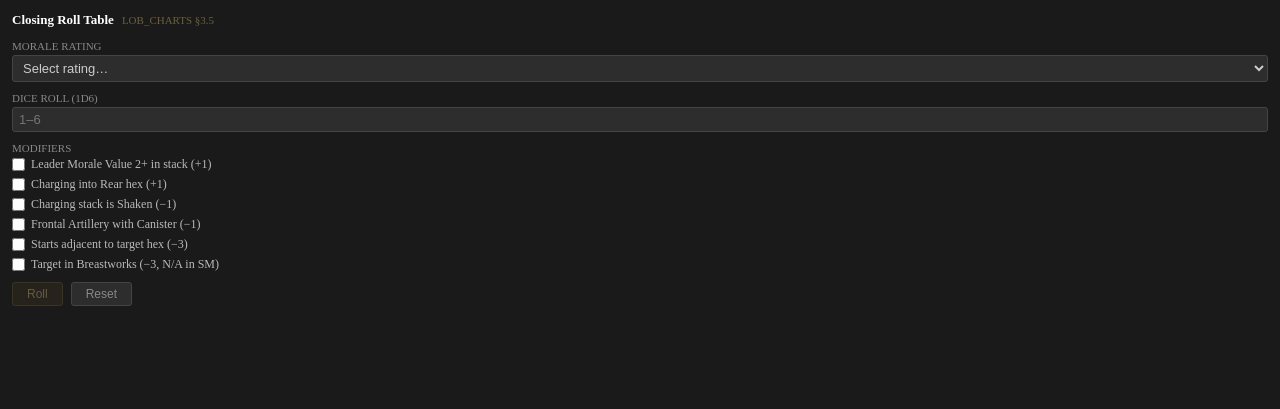
Test case: ClosingRollPanel › displays pass/fail result after successful POST
Select "B" in the dropdown labelled "Morale Rating": (640, 68) [12, 55, 1268, 82]
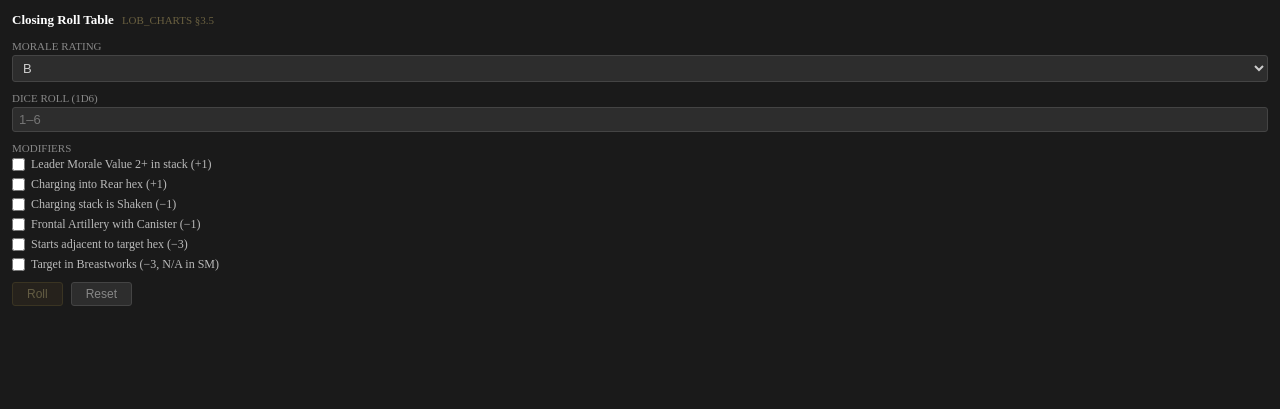
In the number field labelled "Dice Roll (1d6)": (640, 120) [12, 107, 1268, 132], type "3"
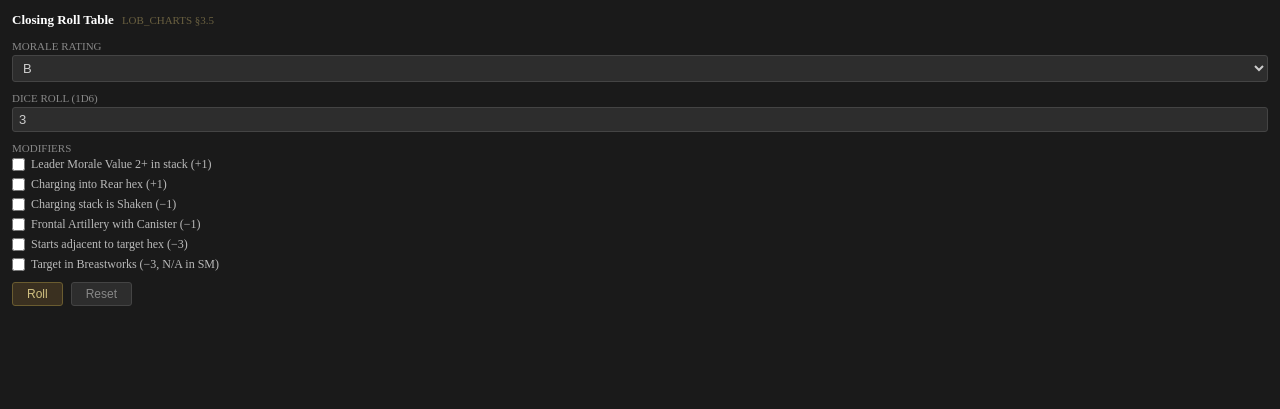
Click the button "Roll": (37, 294) [12, 282, 63, 306]
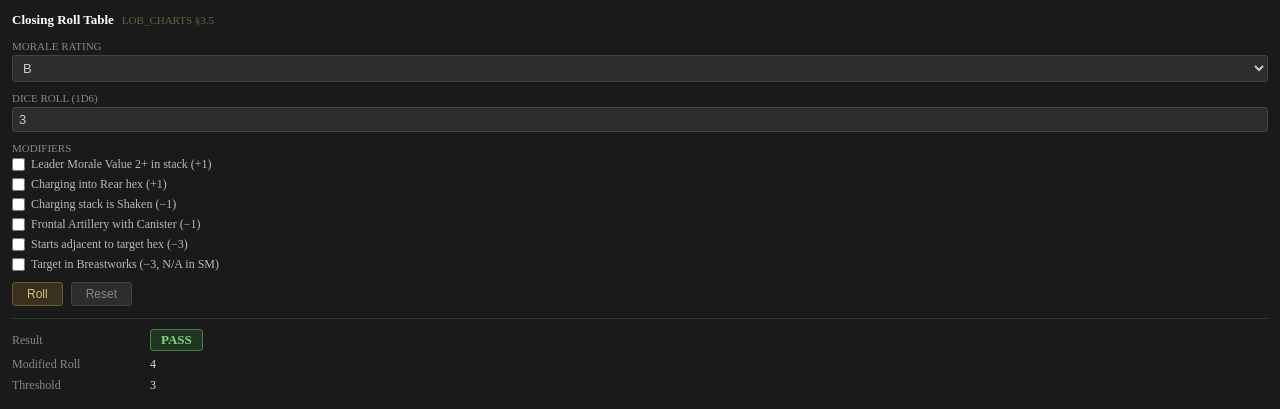
Expected: the text "PASS" is shown, [150, 329, 203, 351]
Expected: the text "Threshold" is shown, [12, 378, 61, 392]
